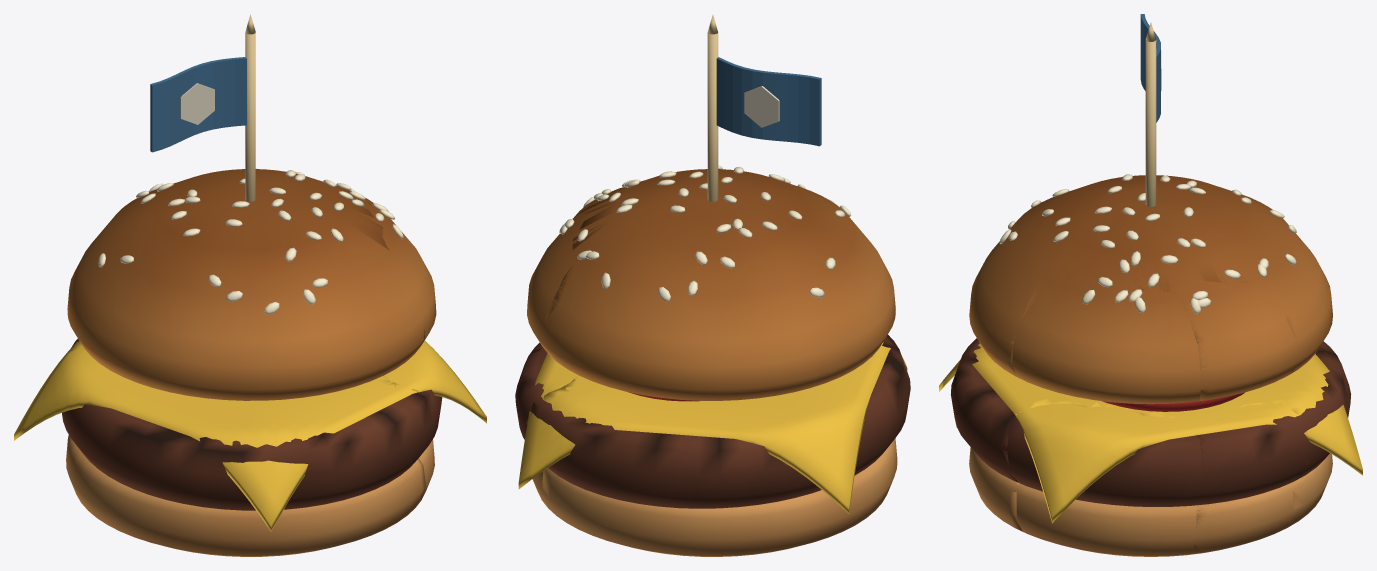
The model's file is colony_burger_held.glb.
The picture shows the model from 3 angles, left to right: view 1: azimuth 30°, elevation 25°; view 2: azimuth 150°, elevation 25°; view 3: azimuth 270°, elevation 25°; orthographic projection.
Visible parts, largest first — view 1: BunTop, Patty, Cheese, BunBottom, Flag, Cheese.001, BunTop.001, Seeds, Pick, BunTop.002, FlagMark, Patty.002 (+2 smaller); view 2: BunTop, Patty, Cheese, BunBottom, Flag, Cheese.001, BunTop.001, Seeds, Pick, BunTop.002, FlagMark; view 3: BunTop, Patty, Cheese, BunBottom, BunTop.001, Seeds, Cheese.001, BunTop.002, Pick, Patty.001, Flag, Tomato (+2 smaller).
Part boxes in pixels (left/top/right/bottom): BunTop: left=67, top=169, right=436, bottom=400; Patty: left=62, top=339, right=442, bottom=510; Cheese: left=14, top=340, right=486, bottom=531; BunBottom: left=66, top=435, right=434, bottom=556; Flag: left=150, top=57, right=246, bottom=152; Cheese.001: left=15, top=344, right=418, bottom=524; BunTop.001: left=109, top=169, right=424, bottom=399; Seeds: left=98, top=168, right=403, bottom=314; Pick: left=245, top=14, right=255, bottom=201; BunTop.002: left=132, top=187, right=423, bottom=400; FlagMark: left=180, top=83, right=214, bottom=124; Patty.002: left=154, top=415, right=401, bottom=509; BunTop: left=527, top=169, right=895, bottom=400; Patty: left=515, top=335, right=910, bottom=508; Cheese: left=518, top=342, right=907, bottom=513; BunBottom: left=532, top=438, right=897, bottom=556; Flag: left=716, top=57, right=821, bottom=146; Cheese.001: left=519, top=346, right=887, bottom=506; BunTop.001: left=528, top=169, right=895, bottom=341; Seeds: left=559, top=165, right=851, bottom=301; Pick: left=707, top=15, right=718, bottom=201; BunTop.002: left=545, top=181, right=892, bottom=358; FlagMark: left=744, top=86, right=779, bottom=127; BunTop: left=969, top=175, right=1332, bottom=404; Patty: left=950, top=338, right=1351, bottom=506; Cheese: left=939, top=342, right=1362, bottom=523; BunBottom: left=969, top=447, right=1332, bottom=556; BunTop.001: left=987, top=189, right=1302, bottom=400; Seeds: left=999, top=174, right=1296, bottom=313; Cheese.001: left=939, top=345, right=1360, bottom=466; BunTop.002: left=993, top=183, right=1315, bottom=373; Pick: left=1145, top=22, right=1156, bottom=206; Patty.001: left=960, top=340, right=1331, bottom=503; Flag: left=1140, top=14, right=1160, bottom=122; Tomato: left=1102, top=392, right=1244, bottom=411.
Size of the model in its own units: 0.1282 by 0.1565 by 0.1282.
